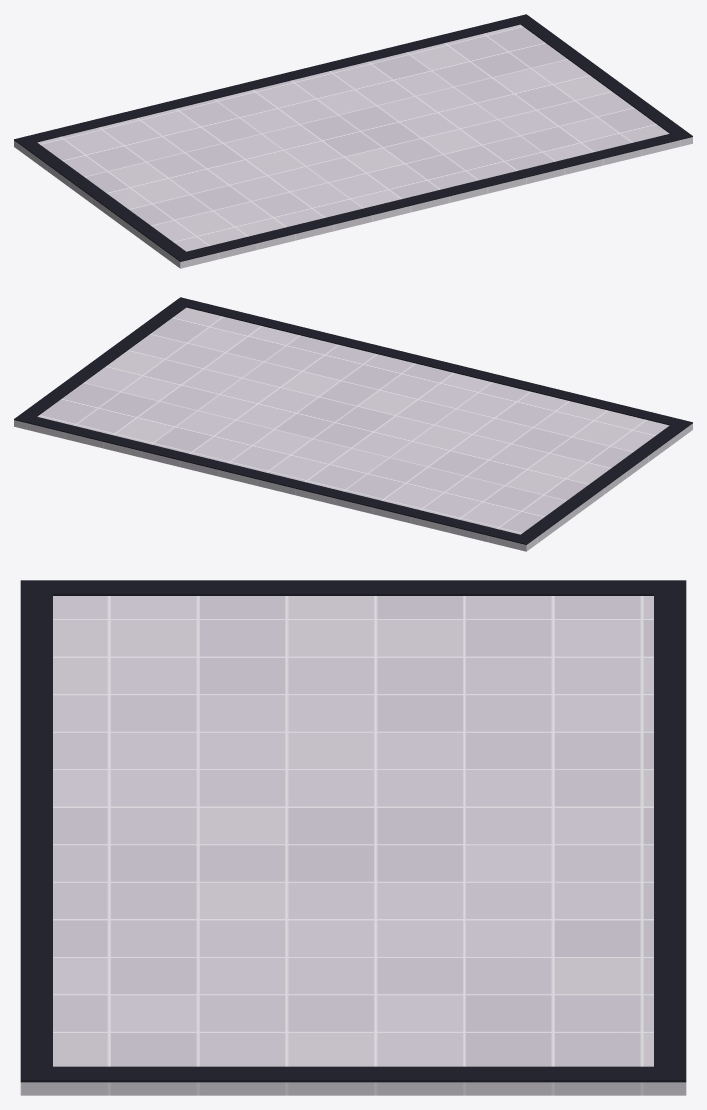
File: piso de taller.glb
The picture shows the model from 3 angles, top to bottom: view 1: azimuth 30°, elevation 25°; view 2: azimuth 150°, elevation 25°; view 3: azimuth 270°, elevation 25°; orthographic projection. The views are drawn at different scales.
Visible parts, largest first — view 1: Suelo, Borde_Frente, Borde_Atras, Borde_Der, Borde_Izq; view 2: Suelo, Borde_Atras, Borde_Frente, Borde_Der, Borde_Izq; view 3: Suelo, Borde_Atras, Borde_Frente, Borde_Der, Borde_Izq.
Boxes of the visible parts, x1,y1,x2,y2 form: Suelo: (14,24,692,268); Borde_Frente: (172,130,692,261); Borde_Atras: (14,14,534,145); Borde_Der: (520,20,692,139); Borde_Izq: (22,142,185,255); Suelo: (14,307,692,551); Borde_Atras: (14,413,534,544); Borde_Frente: (176,298,692,428); Borde_Der: (22,297,193,416); Borde_Izq: (521,425,684,538); Suelo: (20,596,686,1095); Borde_Atras: (654,580,686,1082); Borde_Frente: (20,580,52,1082); Borde_Der: (20,1066,653,1082); Borde_Izq: (53,580,653,595).
Bounding box in the file's own units: 800 × 11.4 × 450.
Materials: 2 (1 with a texture image).
